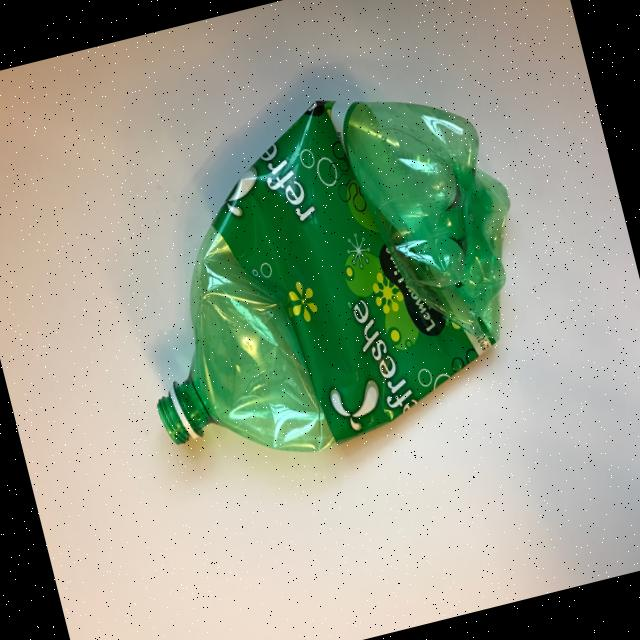plastic: (94, 59, 556, 487)
